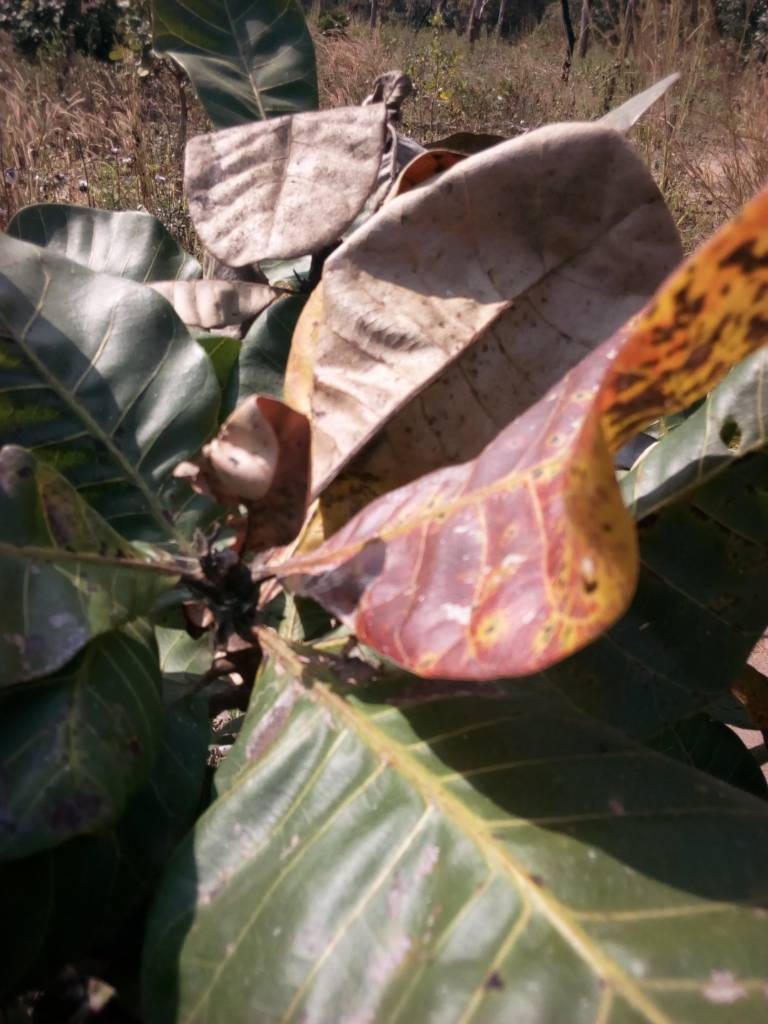Bactériose: (349, 205, 768, 677), (1, 453, 172, 674), (1, 649, 152, 847)
